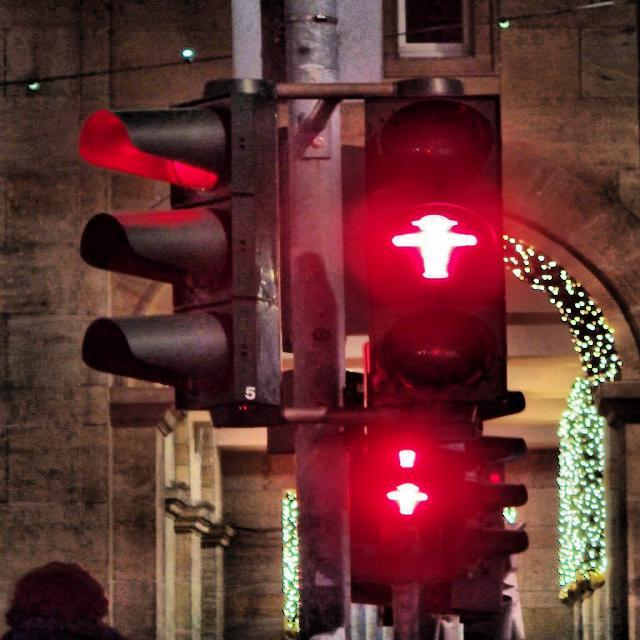red_light: (388, 210, 480, 282), (385, 481, 430, 516)
